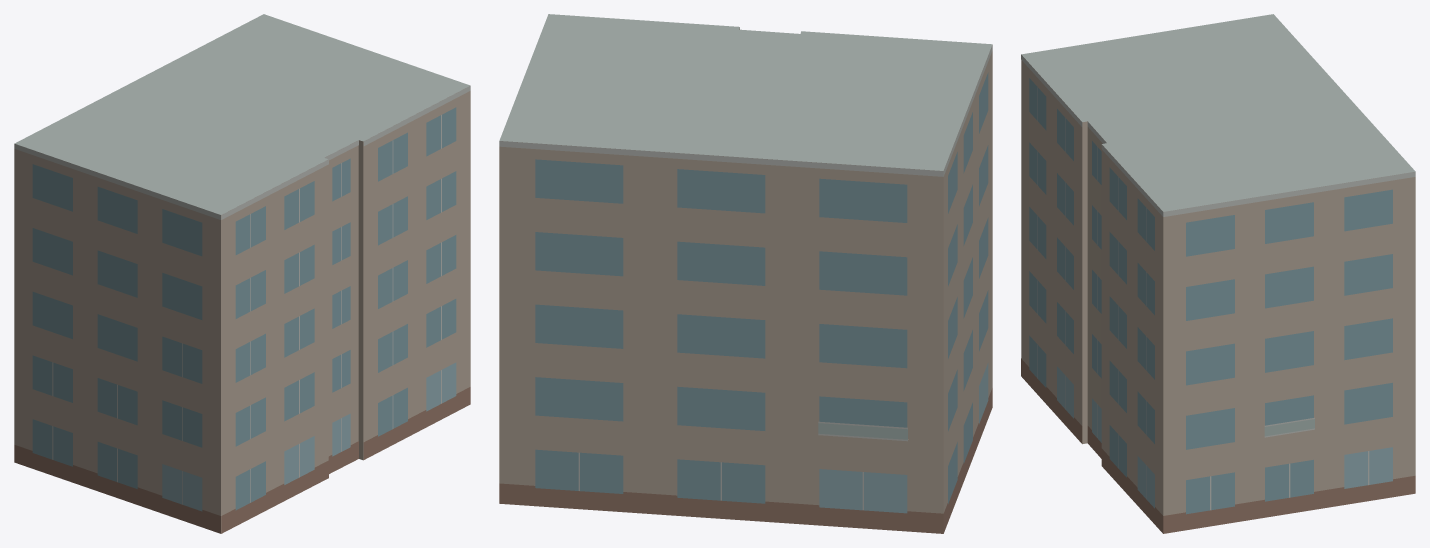
The model's file is survey-upis-32854431.glb.
3 renders of one model, left to right at view 1: azimuth 30°, elevation 25°; view 2: azimuth 150°, elevation 25°; view 3: azimuth 270°, elevation 25°, orthographic. The views are drawn at different scales.
Visible parts, largest first — view 1: survey-upis-32854431.tmp; view 2: survey-upis-32854431.tmp; view 3: survey-upis-32854431.tmp.
Part boxes in pixels (box(x1,y1,x2,y2)): survey-upis-32854431.tmp: box(14, 14, 470, 533); survey-upis-32854431.tmp: box(499, 14, 992, 533); survey-upis-32854431.tmp: box(1021, 14, 1415, 533).
Size of the model in its own units: 20.06 by 15.2 by 16.89.
